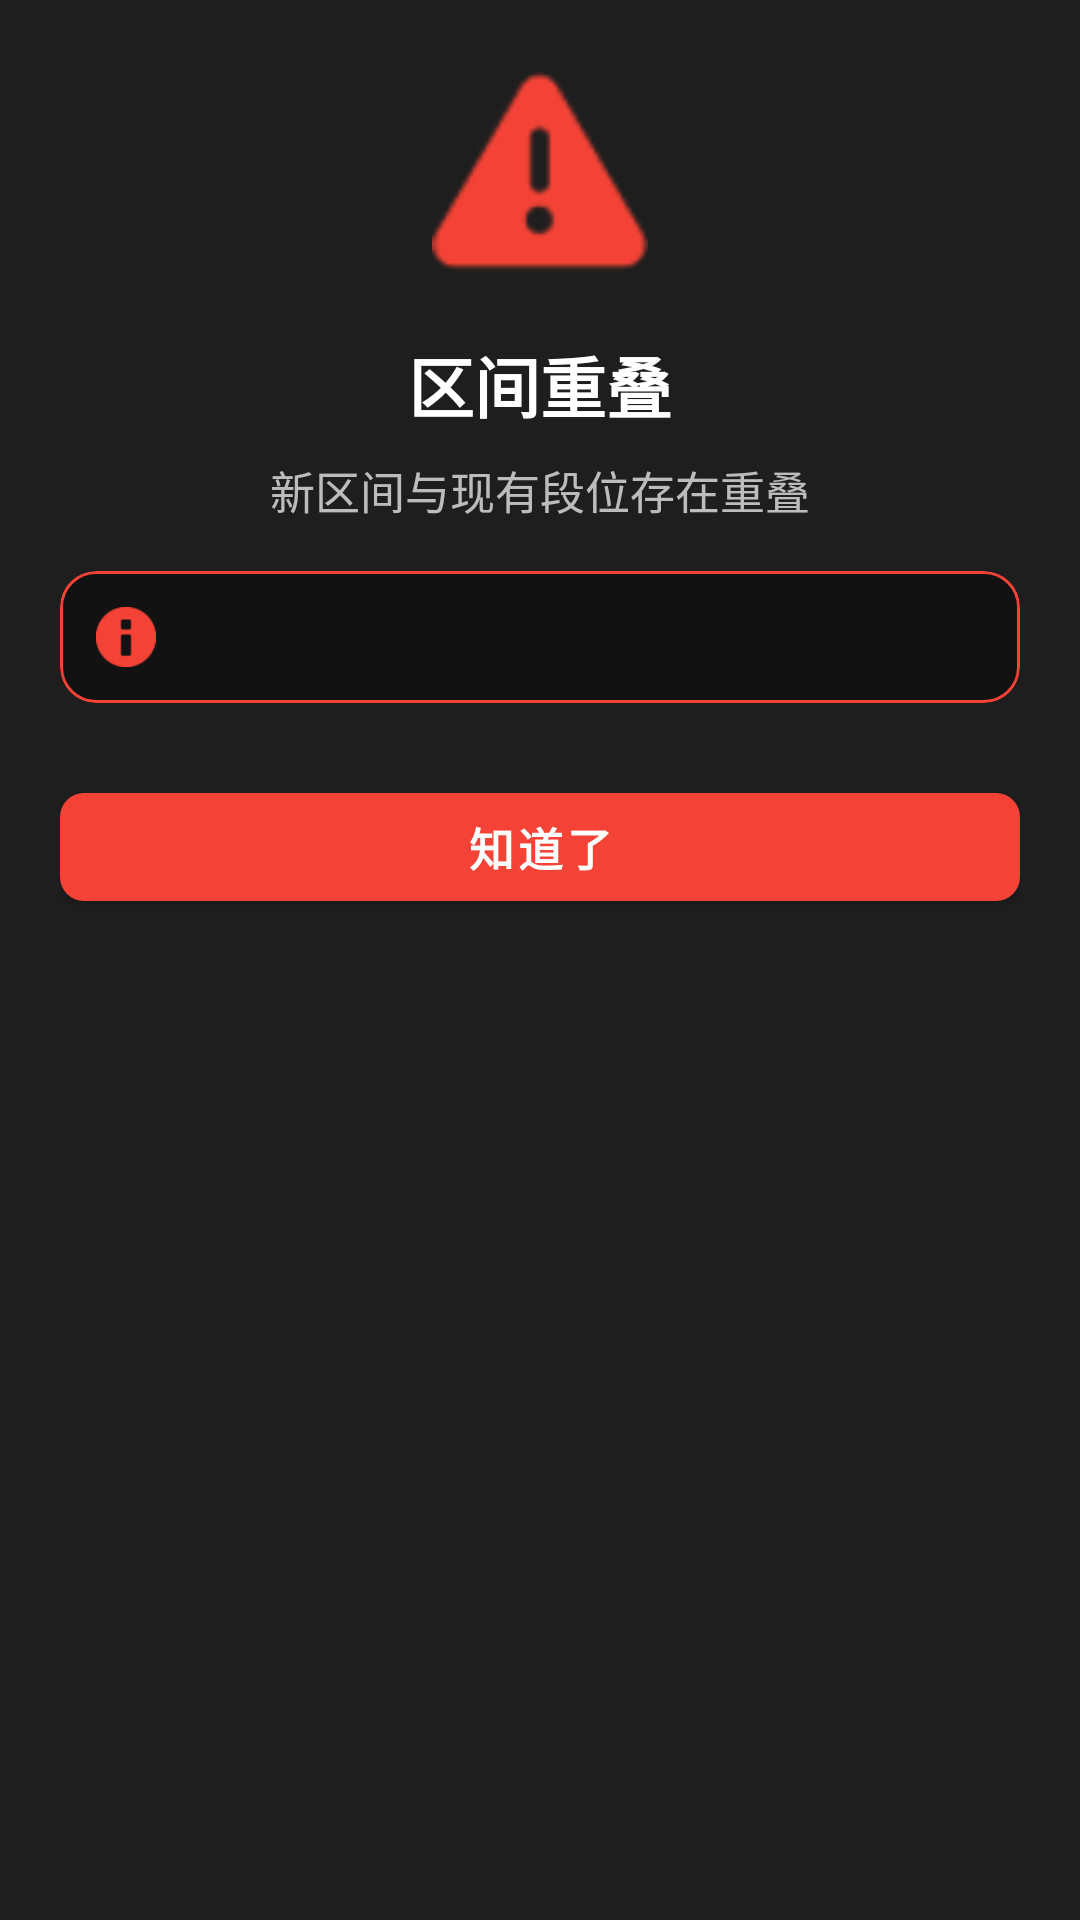

Icons on this 1080px x 1920px Android screen, each with its box as (x1, y1, x2, y2):
alert: (432, 72, 648, 269)
info: (96, 607, 156, 667)
